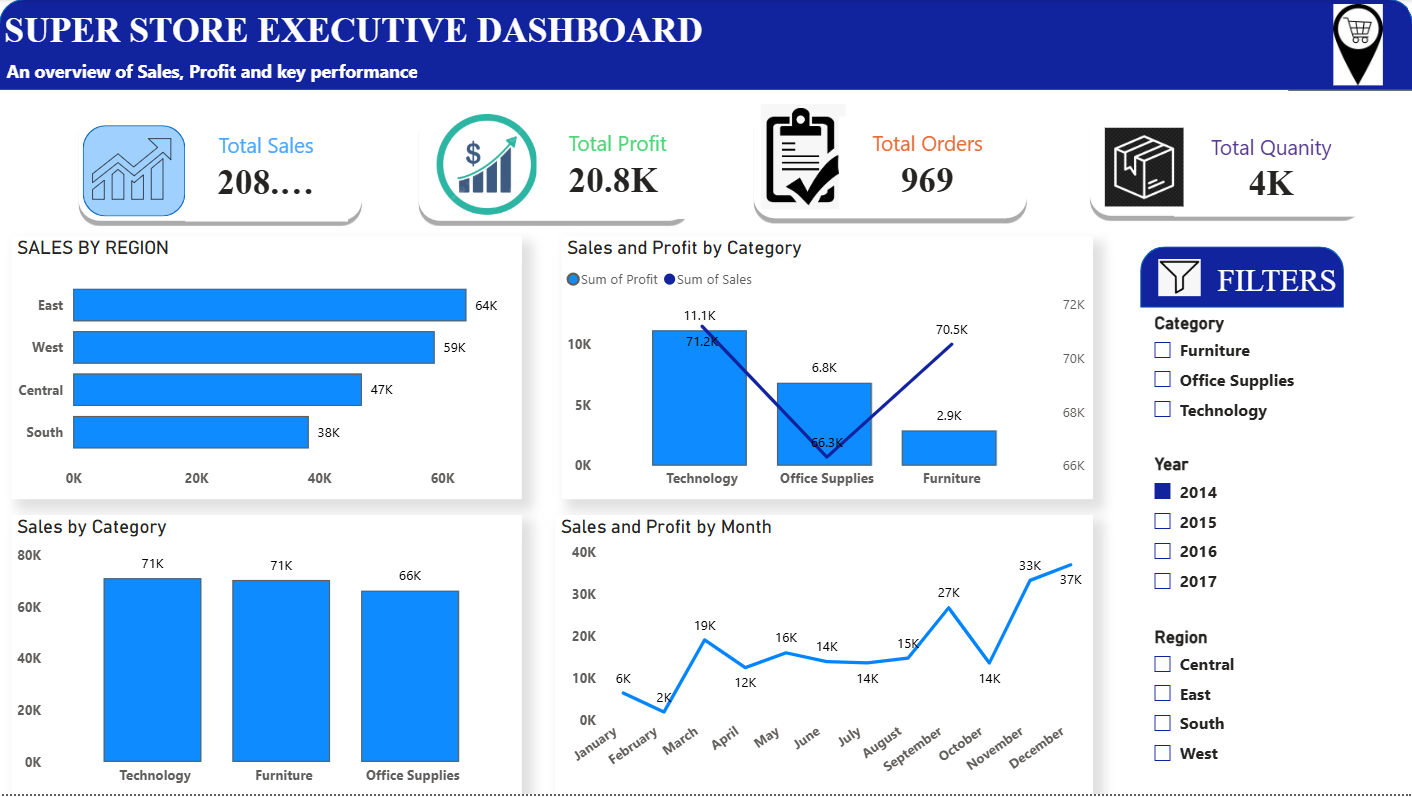

Layout of this report page (visuals, bound fields, positions):
{"tool":"powerbi","page":{"name":"SUPER STORE EXECUTIVE DASHBOARD","canvas":[1280,720],"ordinal":0},"visuals":[{"type":"shape","box":[66.7,92.7,266.8,113.1],"z":0},{"type":"shape","box":[75.8,114.2,92.7,82.5],"z":1000},{"type":"textbox","box":[1165.7,58.8,114.2,23.7],"z":2000},{"type":"barChart","title":"SALES BY REGION","fields":{"Category":["Sample - Superstore.Region"],"Y":["Sum(Sample - Superstore.Sales)"]},"box":[11.3,214.8,461.3,237.4],"z":3000},{"type":"clusteredColumnChart","title":"Sales by Category","fields":{"Category":["Sample - Superstore.Category"],"Y":["Sum(Sample - Superstore.Sales)"]},"box":[11.3,467,461.3,253.3],"z":4000},{"type":"lineStackedColumnComboChart","title":"Sales and Profit by Category","fields":{"Y":["Sum(Sample - Superstore.Profit)"],"Category":["Sample - Superstore.Category"],"Y2":["Sum(Sample - Superstore.Sales)"]},"box":[508.8,214.8,480.5,237.4],"z":5000},{"type":"lineChart","title":"Sales and Profit by Month","fields":{"Y":["Sum(Sample - Superstore.Sales)"],"Category":["Date Table.Date.Variation.Date Hierarchy.Month"]},"box":[503.1,467,486.2,253.3],"z":6000},{"type":"slicer","fields":{"Values":["Sample - Superstore.Category"]},"box":[1032.3,279.3,221.6,118.7],"z":7000},{"type":"slicer","fields":{"Values":["Date Table.Year"]},"box":[1032.3,407,221.6,156],"z":8000},{"type":"slicer","fields":{"Values":["Sample - Superstore.Region"]},"box":[1032.3,563.1,221.6,157.2],"z":9000},{"type":"shape","box":[0,0,1279.9,82.5],"z":10000},{"type":"textbox","box":[0,4.5,649,62.2],"z":11000},{"type":"image","box":[1178.1,4.5,101.8,73.5],"z":12000},{"type":"image","box":[71.2,115.3,97.2,76.9],"z":13000},{"type":"cardVisual","fields":{"Data":["Sample - Superstore.Total Sales"]},"box":[168.5,102.9,147,98.4],"z":14000},{"type":"shape","box":[374.2,92.7,256.7,113.1],"z":15000},{"type":"image","box":[374.2,104,134.5,91.6],"z":16000},{"type":"cardVisual","fields":{"Data":["Sample - Superstore.Total Profit"]},"box":[486.2,100.6,162.8,98.4],"z":17000},{"type":"shape","box":[677.3,90.5,257.8,113.1],"z":18000},{"type":"image","box":[649,95,157.2,95],"z":19000},{"type":"cardVisual","fields":{"Data":["Sample - Superstore.Total Orders"]},"box":[759.8,106.3,160.6,87.1],"z":20000},{"type":"shape","box":[981.4,88.2,257.8,113.1],"z":21000},{"type":"cardVisual","fields":{"Data":["Sample - Superstore.Total Quanity"]},"box":[1062.8,109.7,176.4,87.1],"z":22000},{"type":"image","box":[961.1,116.5,149.2,71.2],"z":23000},{"type":"shape","box":[1032.3,223.9,184.3,55.4],"z":24000},{"type":"image","box":[1047,235.2,41.8,33.9],"z":25000}]}

Visuals, with their boxes in screenshot pixels (x1, y1, x2, y2), scaled from the page's 1280x720 canvas onto the 1412x797 screenshot:
shape: x1=74 y1=103 x2=368 y2=228
shape: x1=84 y1=126 x2=186 y2=218
textbox: x1=1286 y1=65 x2=1411 y2=91
"SALES BY REGION" barChart: x1=12 y1=238 x2=521 y2=501
"Sales by Category" clusteredColumnChart: x1=12 y1=517 x2=521 y2=796
"Sales and Profit by Category" lineStackedColumnComboChart: x1=561 y1=238 x2=1091 y2=501
"Sales and Profit by Month" lineChart: x1=555 y1=517 x2=1091 y2=796
slicer - Sample - Superstore.Category: x1=1139 y1=309 x2=1383 y2=441
slicer - Date Table.Year: x1=1139 y1=451 x2=1383 y2=623
slicer - Sample - Superstore.Region: x1=1139 y1=623 x2=1383 y2=796
shape: x1=0 y1=0 x2=1411 y2=91
textbox: x1=0 y1=5 x2=716 y2=74
image: x1=1300 y1=5 x2=1411 y2=86
image: x1=79 y1=128 x2=186 y2=213
cardVisual - Sample - Superstore.Total Sales: x1=186 y1=114 x2=348 y2=223
shape: x1=413 y1=103 x2=696 y2=228
image: x1=413 y1=115 x2=561 y2=217
cardVisual - Sample - Superstore.Total Profit: x1=536 y1=111 x2=716 y2=220
shape: x1=747 y1=100 x2=1032 y2=225
image: x1=716 y1=105 x2=889 y2=210
cardVisual - Sample - Superstore.Total Orders: x1=838 y1=118 x2=1015 y2=214
shape: x1=1083 y1=98 x2=1367 y2=223
cardVisual - Sample - Superstore.Total Quanity: x1=1172 y1=121 x2=1367 y2=218
image: x1=1060 y1=129 x2=1225 y2=208
shape: x1=1139 y1=248 x2=1342 y2=309
image: x1=1155 y1=260 x2=1201 y2=298
